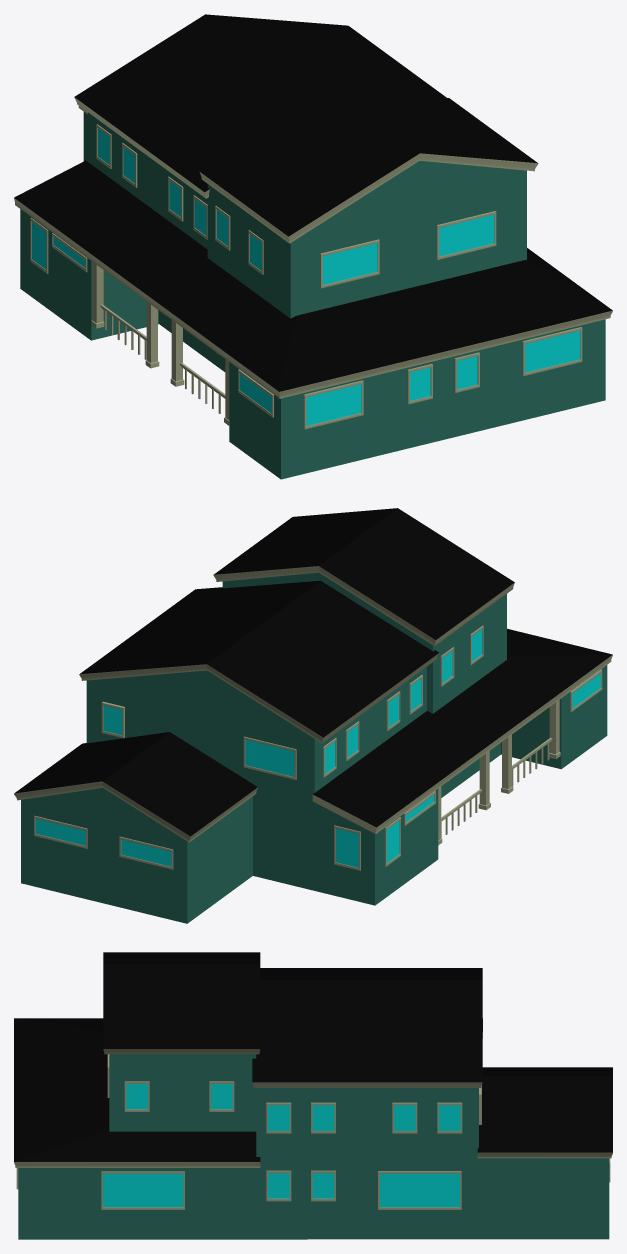
Rendered from General StoreF.fbx.
3 renders of one model, top to bottom at view 1: azimuth 30°, elevation 25°; view 2: azimuth 150°, elevation 25°; view 3: azimuth 270°, elevation 25°, orthographic. The views are drawn at different scales.
Visible parts, largest first — view 1: House_4_Roof, polySurface51, polySurface41, polySurface50, polySurface43, pCube170, pCube213, pCube203, pCube214, pCube209, pCube208, pCube174 (+4 smaller); view 2: polySurface41, polySurface50, polySurface43, House_4_Roof, polySurface44, polySurface51, polySurface45, pCube216, pCube219, pCube220, pCube218, pCube217 (+5 smaller); view 3: polySurface51, polySurface41, polySurface50, House_4_Roof, polySurface43, polySurface45, polySurface44, pCube212, pCube215, pCube199, pCube200, pCube202 (+5 smaller).
Boxes of the visible parts, x1=… form: House_4_Roof: x1=14, y1=160, x2=612, y2=398; polySurface51: x1=20, y1=209, x2=605, y2=479; polySurface41: x1=74, y1=14, x2=446, y2=198; polySurface50: x1=88, y1=112, x2=526, y2=318; polySurface43: x1=199, y1=88, x2=538, y2=243; pCube170: x1=303, y1=380, x2=363, y2=429; pCube213: x1=436, y1=211, x2=496, y2=259; pCube203: x1=522, y1=327, x2=582, y2=375; pCube214: x1=320, y1=239, x2=379, y2=288; pCube209: x1=454, y1=352, x2=479, y2=392; pCube208: x1=407, y1=364, x2=432, y2=404; pCube174: x1=238, y1=369, x2=273, y2=417; polySurface41: x1=79, y1=580, x2=439, y2=742; polySurface50: x1=86, y1=572, x2=506, y2=799; polySurface43: x1=213, y1=508, x2=514, y2=646; House_4_Roof: x1=312, y1=628, x2=612, y2=833; polySurface44: x1=21, y1=788, x2=252, y2=923; polySurface51: x1=253, y1=665, x2=607, y2=905; polySurface45: x1=14, y1=732, x2=257, y2=842; pCube216: x1=243, y1=736, x2=296, y2=779; pCube219: x1=119, y1=836, x2=173, y2=869; pCube220: x1=34, y1=815, x2=87, y2=848; pCube218: x1=334, y1=825, x2=360, y2=870; pCube217: x1=101, y1=701, x2=124, y2=738; polySurface51: x1=18, y1=1149, x2=478, y2=1239; polySurface41: x1=252, y1=968, x2=482, y2=1087; polySurface50: x1=109, y1=1054, x2=478, y2=1149; House_4_Roof: x1=14, y1=1018, x2=482, y2=1167; polySurface43: x1=103, y1=952, x2=260, y2=1054; polySurface45: x1=477, y1=1067, x2=612, y2=1158; polySurface44: x1=479, y1=1158, x2=609, y2=1239; pCube212: x1=378, y1=1171, x2=461, y2=1209; pCube215: x1=101, y1=1171, x2=184, y2=1209; pCube199: x1=392, y1=1102, x2=417, y2=1133; pCube200: x1=437, y1=1102, x2=462, y2=1133; pCube202: x1=266, y1=1102, x2=291, y2=1133.
Bounding box in the file's own units: 40.76 × 28.58 × 71.61.
